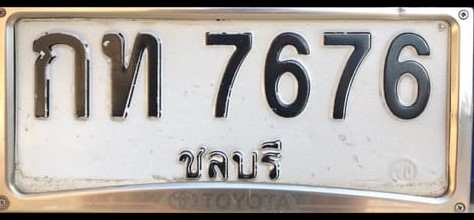txt01: (30, 28, 93, 121)
txt18: (98, 30, 164, 121)
